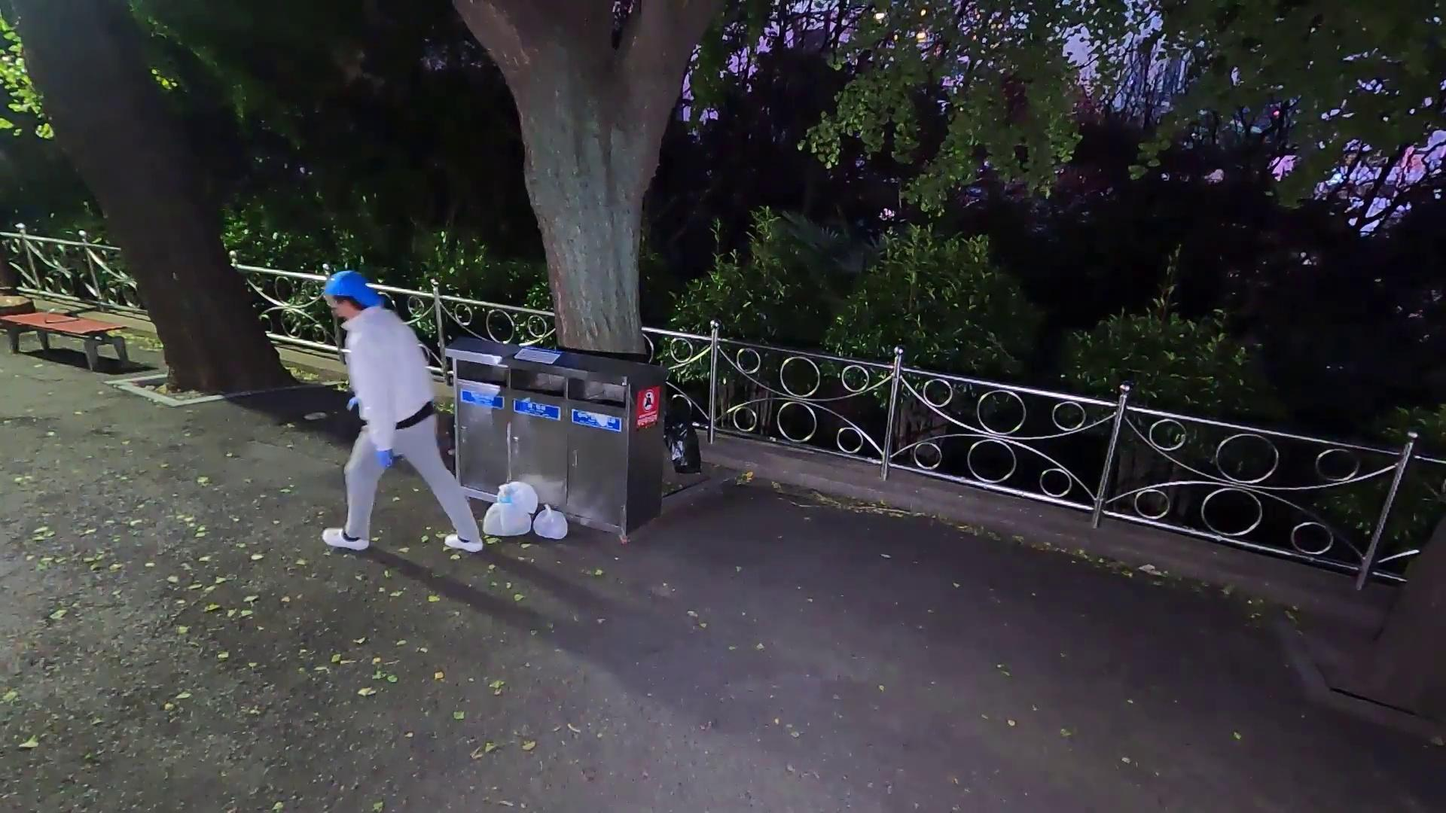person: (319, 270, 485, 558)
trash: (664, 405, 703, 478), (481, 490, 532, 539), (496, 479, 541, 517), (532, 504, 569, 541)
